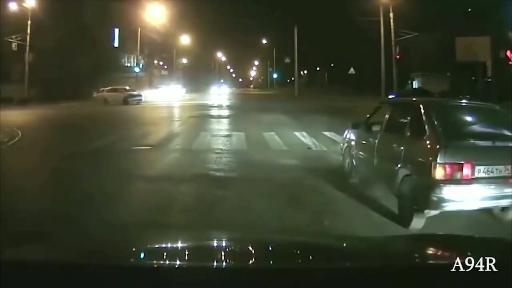Accident: (57, 53, 211, 131)
